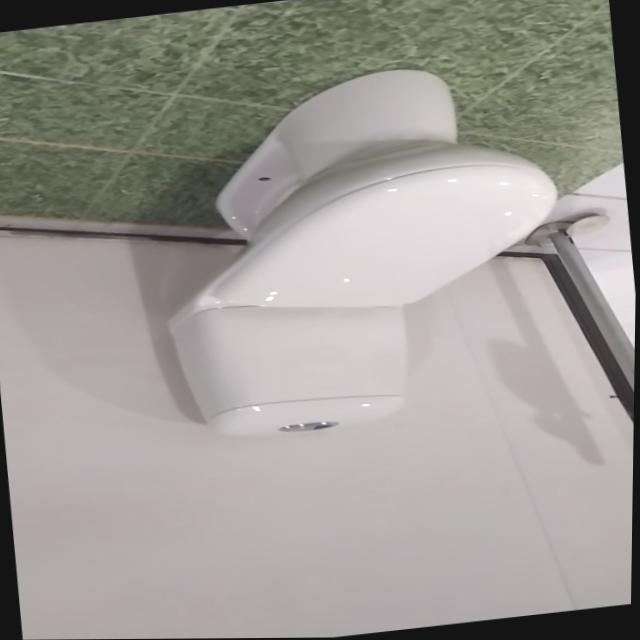toilet: (141, 52, 582, 448)
